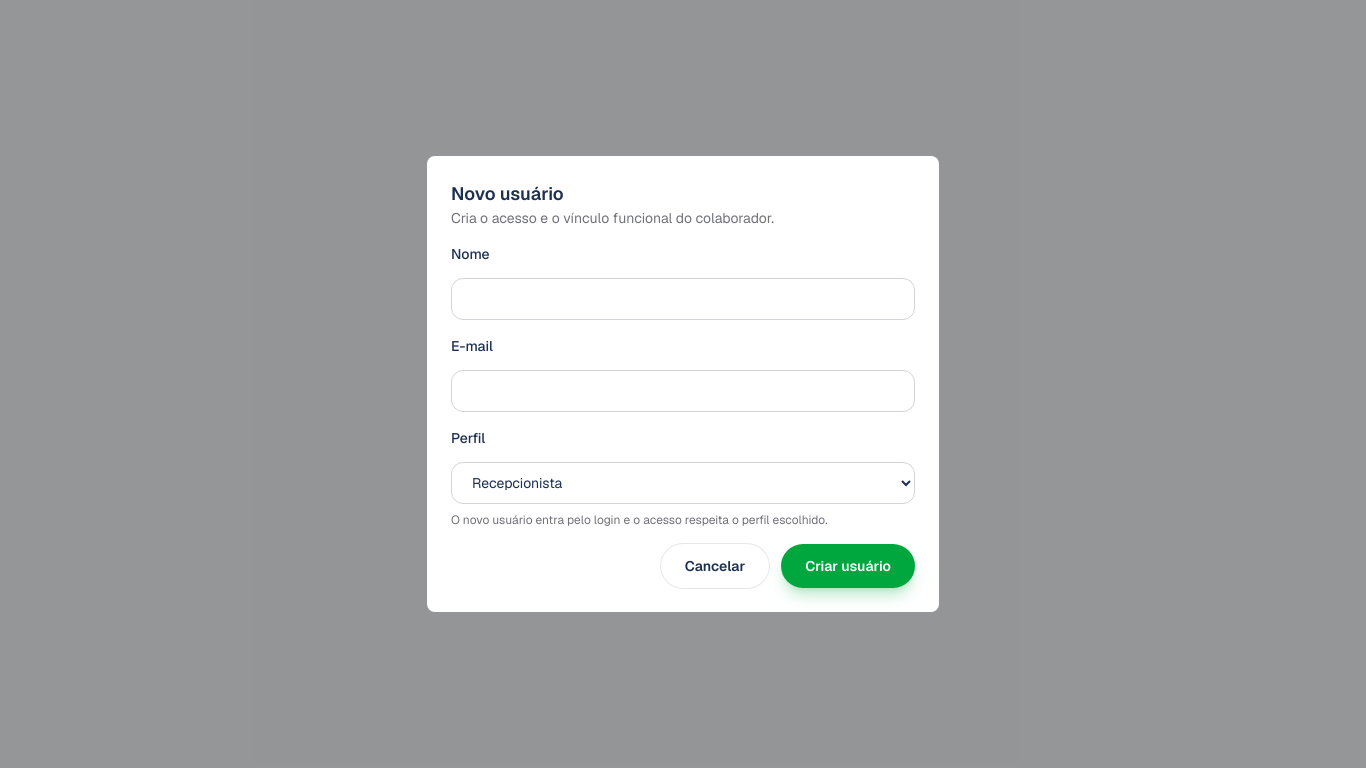
Test: NovoUsuarioForm — envio e feedback › valida formato do e-mail no cliente
The image size is (1366, 768).
Type "Ana" into the field labelled "Nome". click: (683, 299)
box: [451,278,915,320]
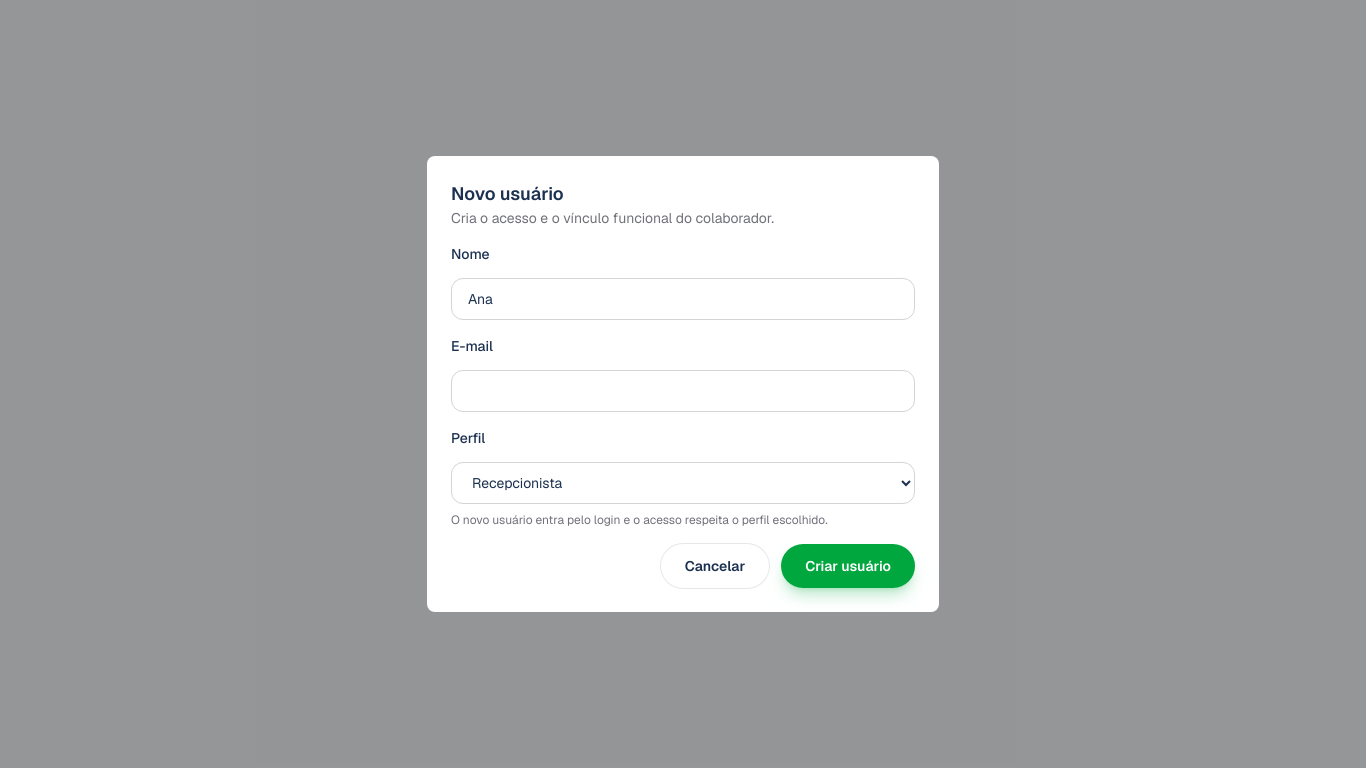
Type "sem-arroba" into the field labelled "E-mail". click: (683, 391)
box: [451,370,915,412]
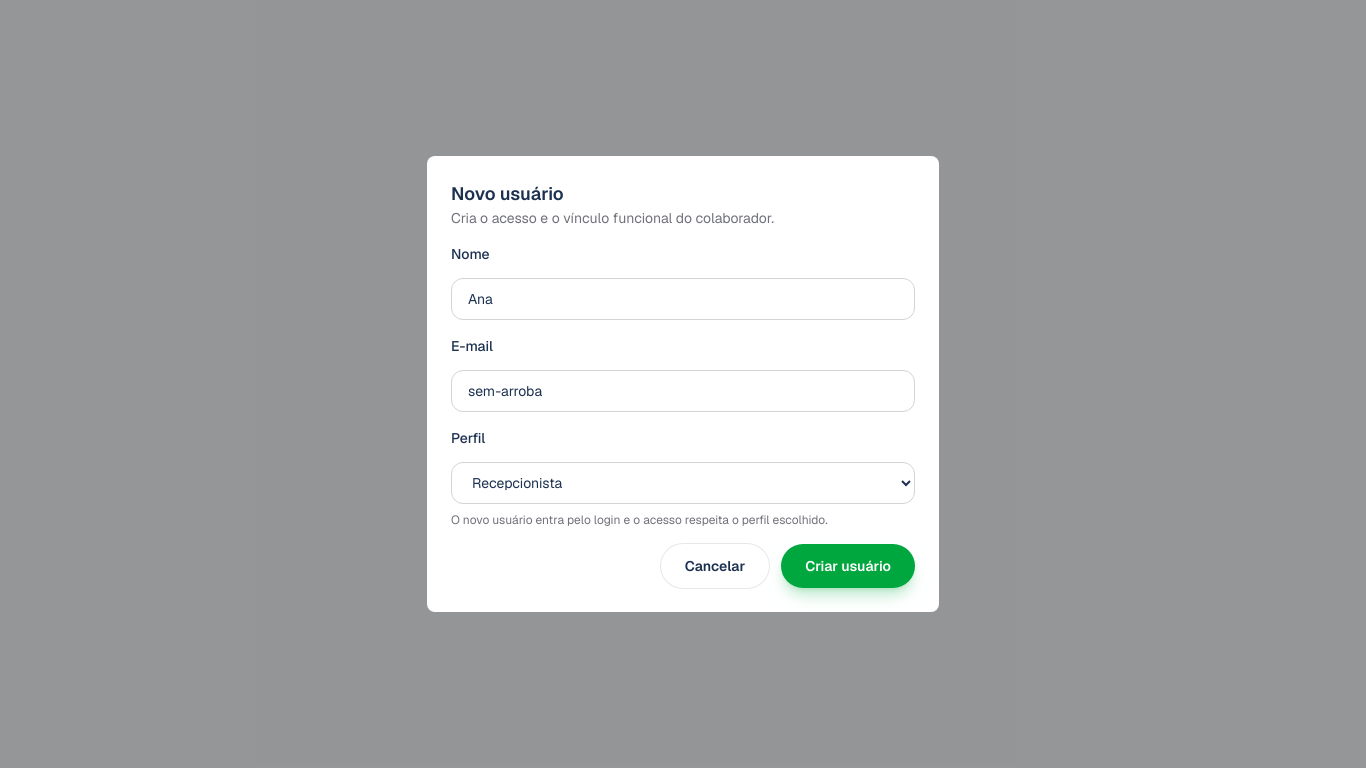
Click the button "Criar usuário". click: click(848, 566)
box: [781,544,915,588]
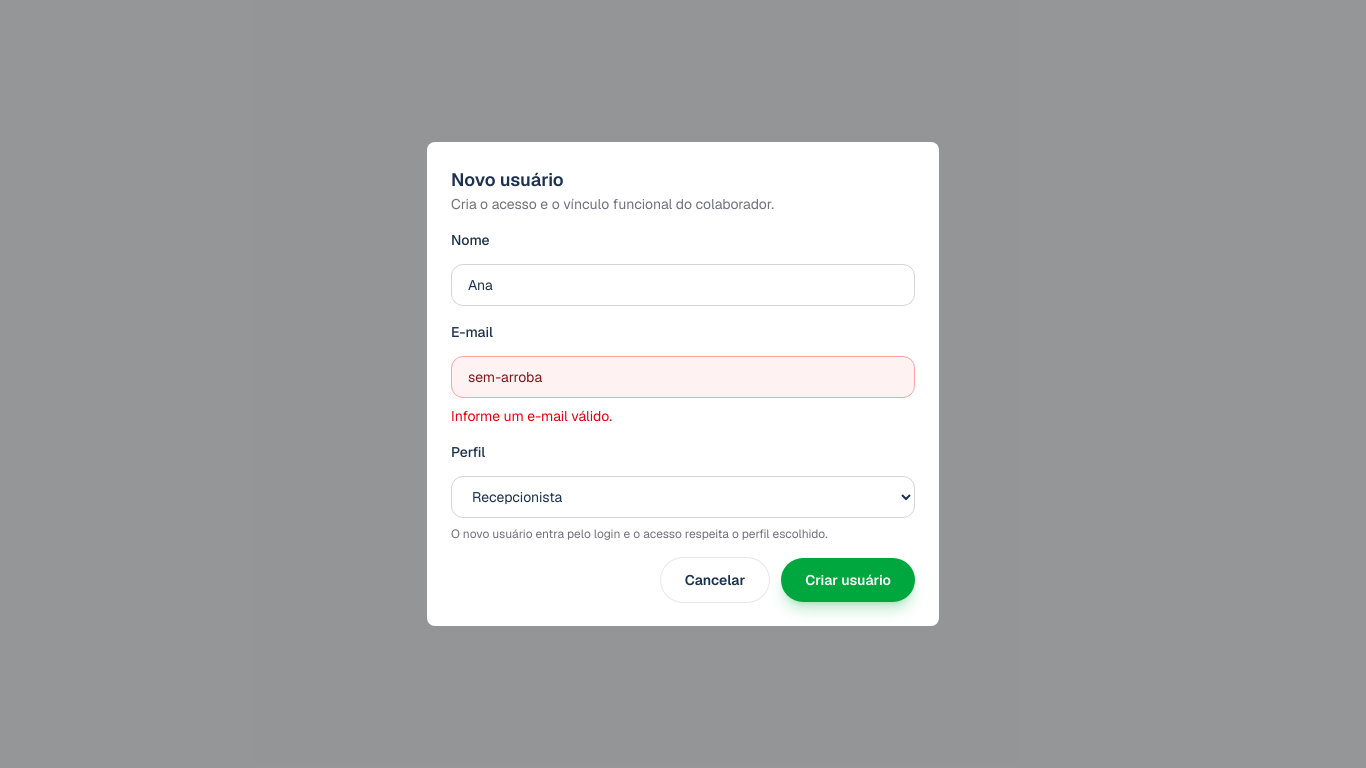
Check: the text "Informe um e-mail válido." is shown, box [451,407,612,425]
